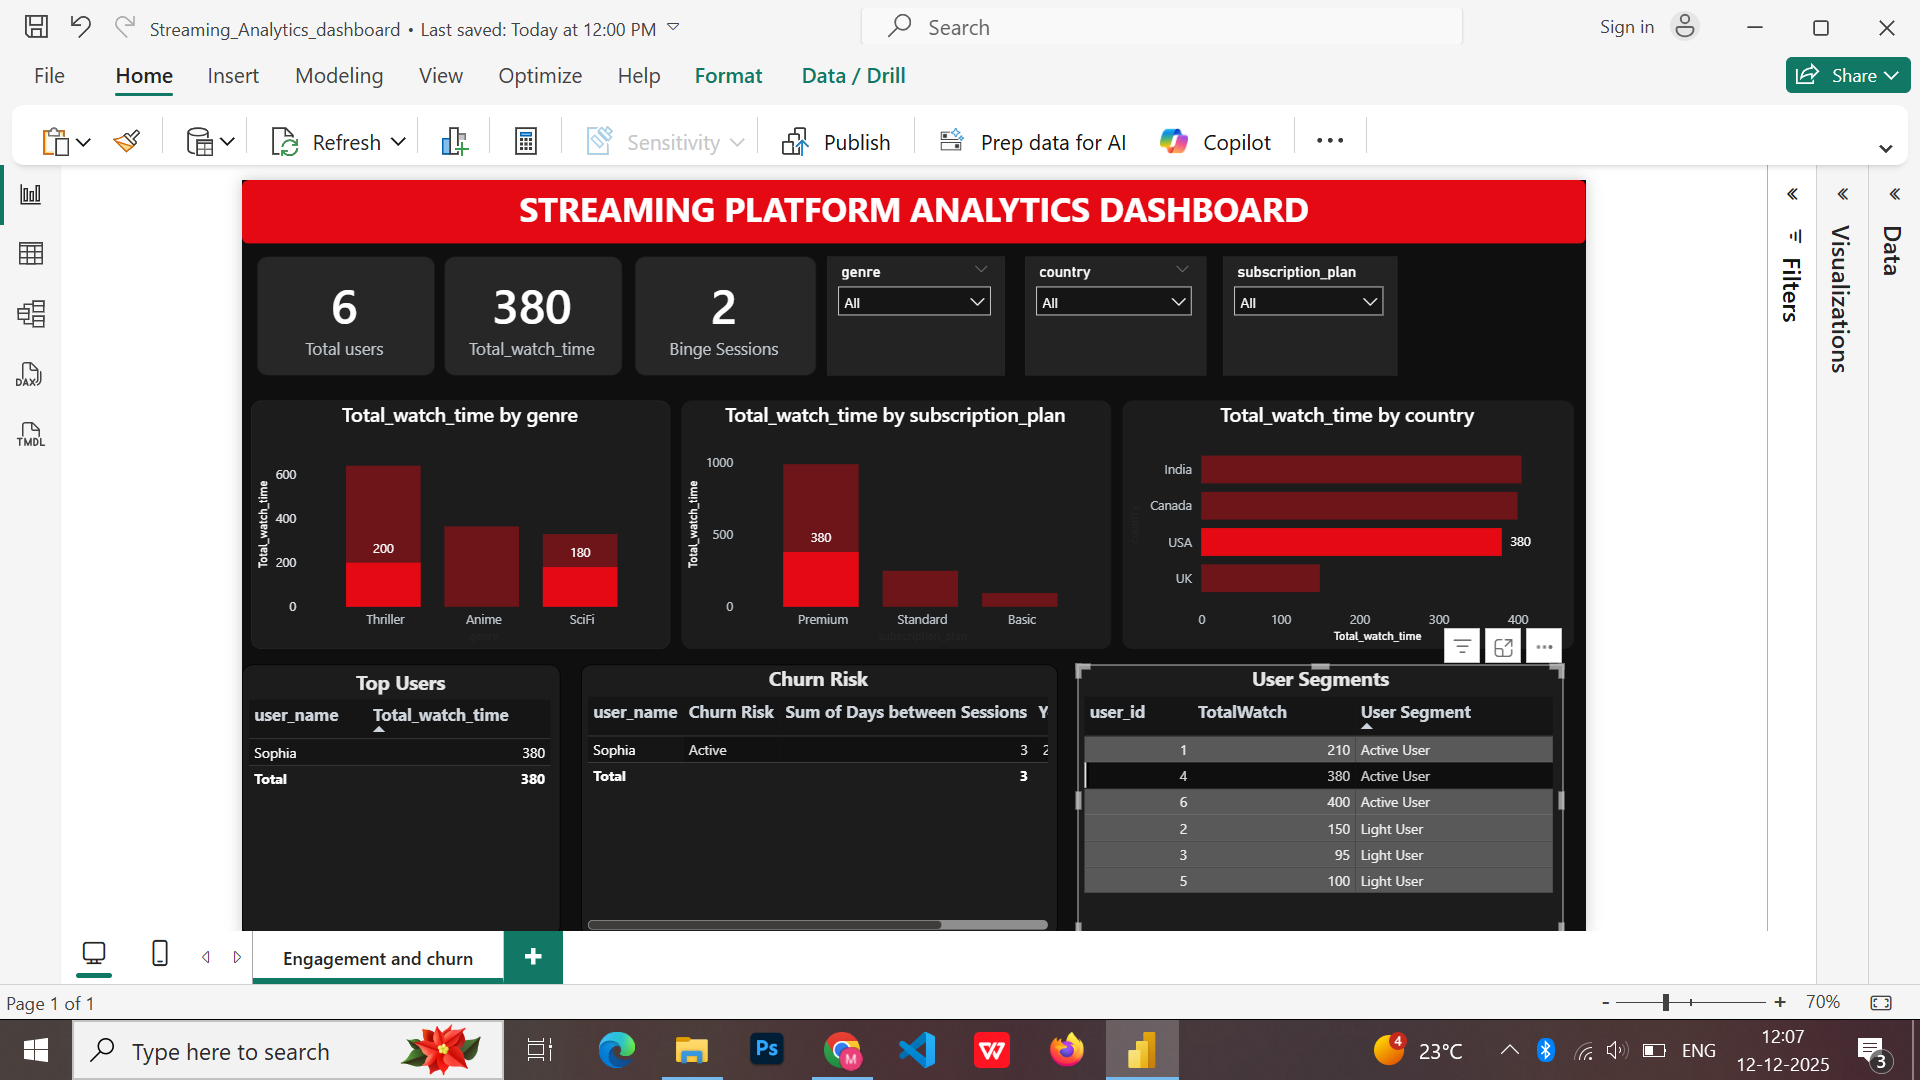

This screenshot's page, from the dashboard's own definition file:
{"tool":"powerbi","page":{"name":"Engagement and churn","canvas":[1280,720],"ordinal":0},"visuals":[{"type":"shape","box":[0,0,1279.7,60.7],"z":0},{"type":"textbox","box":[0,0,1279.7,60.7],"z":1000},{"type":"card","fields":{"Values":["users.Total users"]},"box":[14.4,72.3,169.4,113.4],"z":2000},{"type":"card","fields":{"Values":["watch_history.Total_watch_time"]},"box":[193.3,72.3,169.4,113.4],"z":3000},{"type":"card","fields":{"Values":["watch_history.Binge Sessions"]},"box":[373.9,72.3,172.5,113.4],"z":4000},{"type":"clusteredColumnChart","fields":{"Category":["shows.genre"],"Y":["watch_history.Total_watch_time"]},"box":[8,210.3,399.4,236.5],"z":5000},{"type":"clusteredColumnChart","fields":{"Y":["watch_history.Total_watch_time"],"Category":["users.subscription_plan"]},"box":[418.6,210.3,409,236.5],"z":6000},{"type":"clusteredBarChart","fields":{"Category":["users.country"],"Y":["watch_history.Total_watch_time"]},"box":[838.8,210.3,429.8,236.5],"z":7000},{"type":"slicer","fields":{"Values":["shows.genre"]},"box":[557.6,72.3,169.4,113.4],"z":8000},{"type":"slicer","fields":{"Values":["users.country"]},"box":[746.1,72.3,172.5,113.4],"z":9000},{"type":"slicer","fields":{"Values":["users.subscription_plan"]},"box":[934.6,72.3,166.2,113.4],"z":10000},{"type":"tableEx","title":"Top Users","fields":{"Values":["users.user_name","watch_history.Total_watch_time"]},"box":[0,461.7,303.6,258.8],"z":11001},{"type":"tableEx","title":"Churn Risk","fields":{"Values":["users.user_name","watch_history.Churn Risk","watch_history.Days between Sessions","watch_history.watch_date.Variation.Date Hierarchy.Year","watch_history.watch_date.Variation.Date Hierarchy.Month","watch_history.watch_date.Variation.Date Hierarchy.Day"]},"box":[322.7,461.2,453.7,258.8],"z":11002},{"type":"tableEx","title":"User Segments","fields":{"Values":["User Watch Summary.user_id","User Watch Summary.TotalWatch","User Watch Summary.User Segment"]},"box":[795.6,461.7,463.3,258.8],"z":11003}]}

Visuals, with their boxes on the page's 1280x720 design canvas (x1, y1, x2, y2). These are canvas units, not pixel positions in the 1920x1080 screenshot, which may show the page scaled, cropped or inside an application window:
shape: [0,0,1280,61]
textbox: [0,0,1280,61]
card - users.Total users: [14,72,184,186]
card - watch_history.Total_watch_time: [193,72,363,186]
card - watch_history.Binge Sessions: [374,72,546,186]
clusteredColumnChart - shows.genre x watch_history.Total_watch_time: [8,210,407,447]
clusteredColumnChart - watch_history.Total_watch_time x users.subscription_plan: [419,210,828,447]
clusteredBarChart - users.country x watch_history.Total_watch_time: [839,210,1269,447]
slicer - shows.genre: [558,72,727,186]
slicer - users.country: [746,72,919,186]
slicer - users.subscription_plan: [935,72,1101,186]
"Top Users" tableEx: [0,462,304,720]
"Churn Risk" tableEx: [323,461,776,720]
"User Segments" tableEx: [796,462,1259,720]
